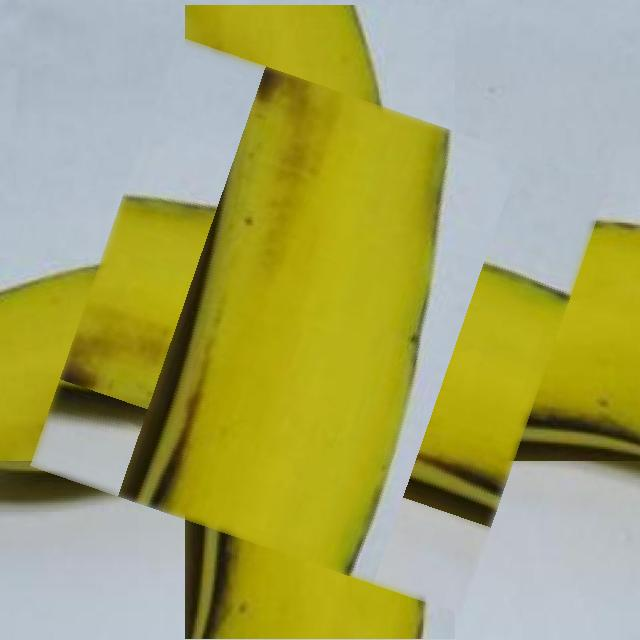Madura: (61, 67, 579, 584)
